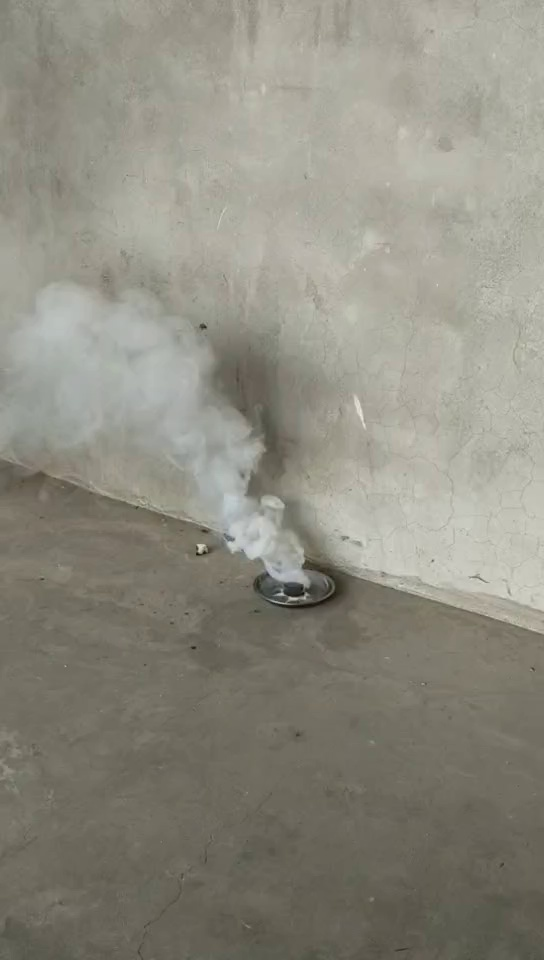smoke: (56, 277, 300, 572)
